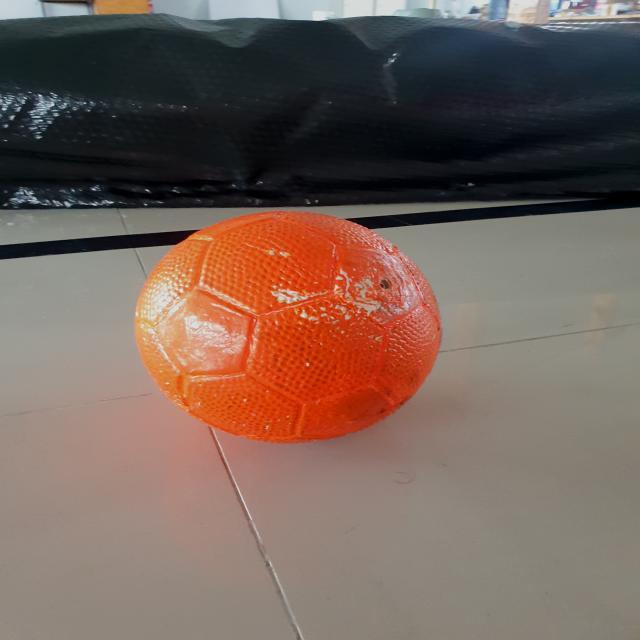bola: (88, 182, 462, 448)
